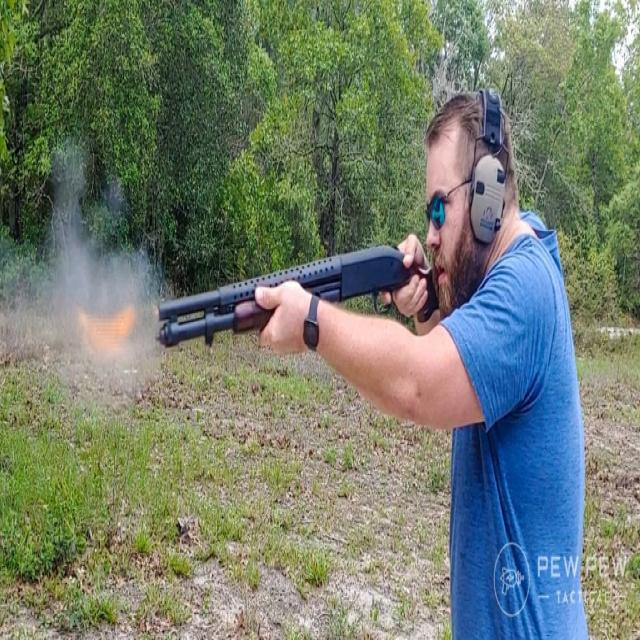Weapon: (156, 234, 430, 393)
